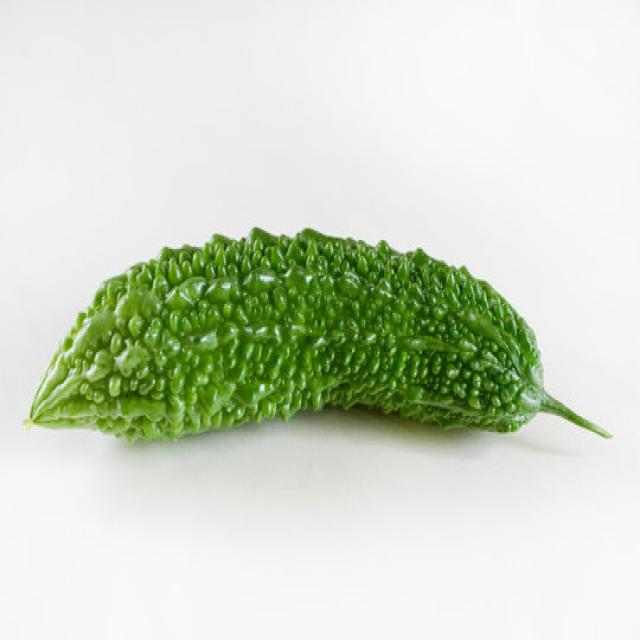Bitter_Gourd: (24, 224, 612, 443)
